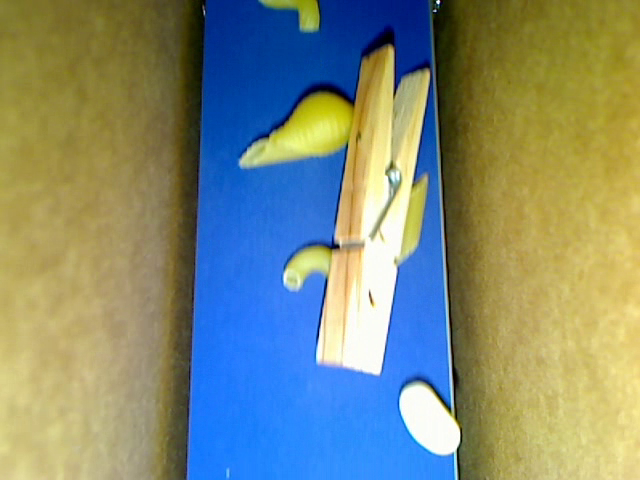elbow: (280, 245, 332, 294), (260, 1, 319, 34)
penne: (397, 173, 429, 264), (238, 138, 308, 169)
shell: (267, 91, 363, 156)
